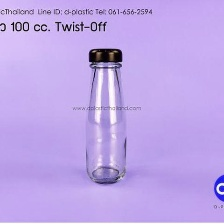bottle: (79, 39, 132, 186)
